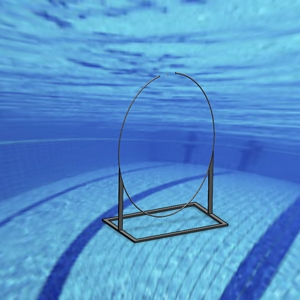circle: (103, 69, 229, 243)
